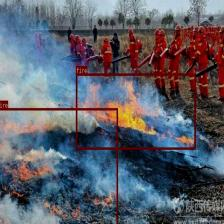fire: (0, 107, 118, 224), (76, 73, 196, 149)
